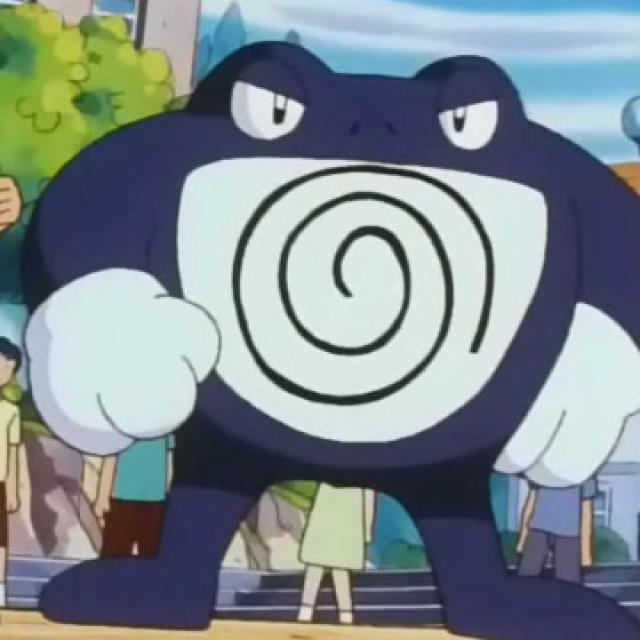Poliwrath: (44, 42, 611, 470)
